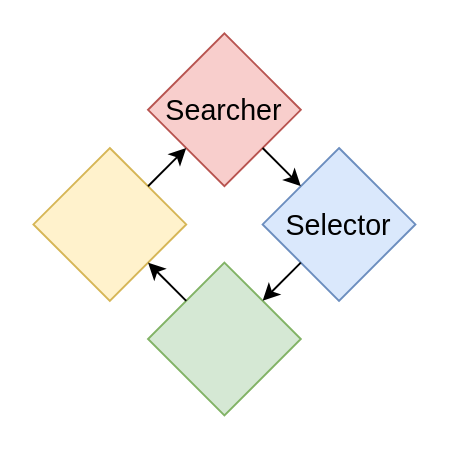
The diagram is 449 pixels wide and 449 high, and some of its shapes have lost their labels. The shapes that lost their labels are listed below. From the top down, each one's centre as x and y in pixels, then its label:
At (109,223): "Interpreter".
At (223,338): "Deployer".
